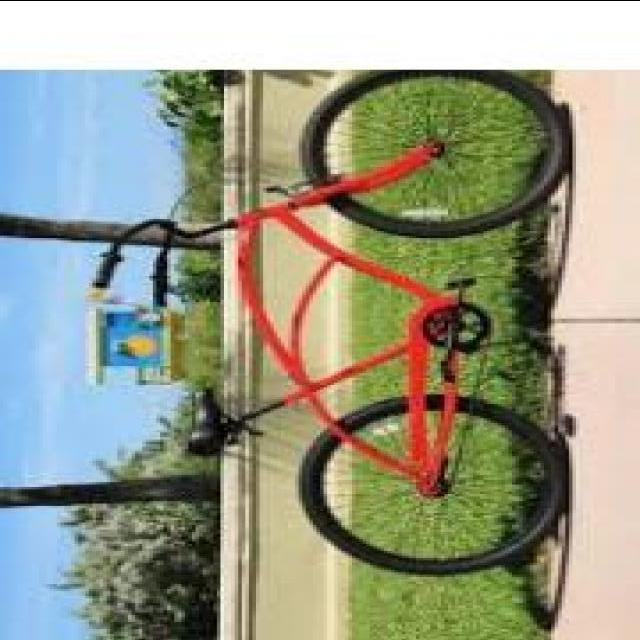bicycle: (36, 72, 570, 553)
